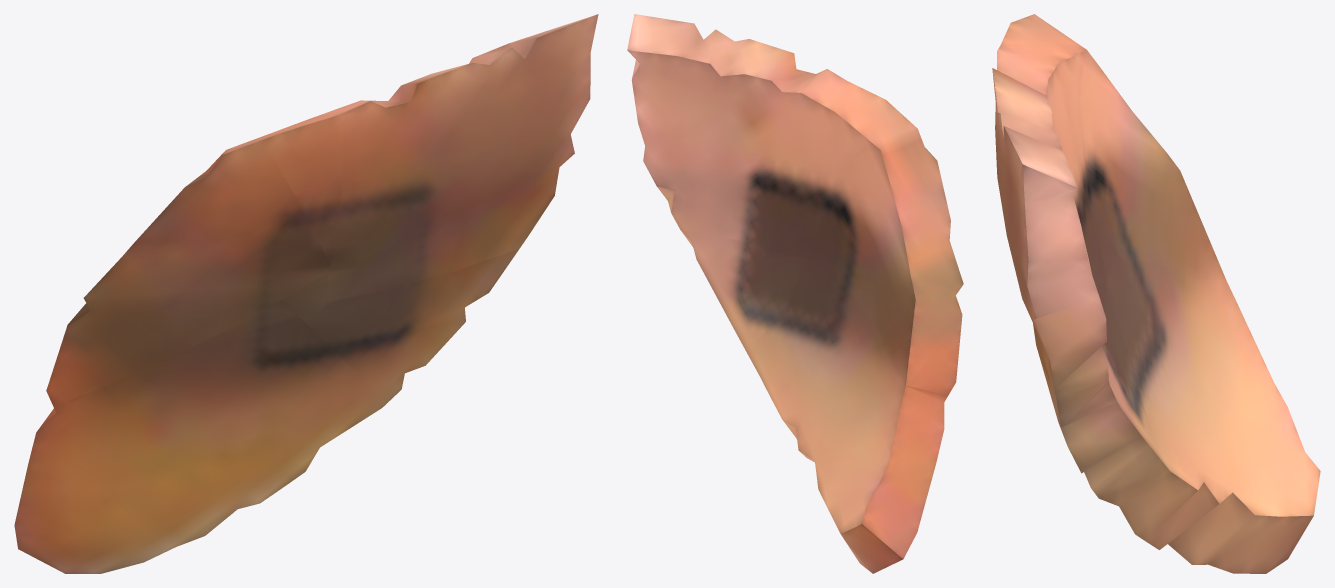
The model's file is Ceramic002.gltf.
3 renders of one model, left to right at view 1: azimuth 30°, elevation 25°; view 2: azimuth 150°, elevation 25°; view 3: azimuth 270°, elevation 25°, orthographic. The views are drawn at different scales.
Visible parts, largest first — view 1: Ceramic002_003, Ceramic002_001, Ceramic002_002, Ceramic002_004, Ceramic002; view 2: Ceramic002_001, Ceramic002_003, Ceramic002_002, Ceramic002_004, Ceramic002; view 3: Ceramic002_003, Ceramic002_001, Ceramic002_002, Ceramic002_004, Ceramic002.
Boxes of the visible parts, left/top/right/bottom form: Ceramic002_003: left=14, top=300, right=386, bottom=573; Ceramic002_001: left=320, top=14, right=598, bottom=302; Ceramic002_002: left=46, top=140, right=329, bottom=405; Ceramic002_004: left=282, top=249, right=518, bottom=402; Ceramic002: left=250, top=113, right=342, bottom=264; Ceramic002_001: left=627, top=14, right=846, bottom=261; Ceramic002_003: left=745, top=268, right=947, bottom=573; Ceramic002_002: left=814, top=110, right=963, bottom=395; Ceramic002_004: left=680, top=230, right=835, bottom=349; Ceramic002: left=815, top=80, right=896, bottom=224; Ceramic002_003: left=1097, top=256, right=1320, bottom=573; Ceramic002_001: left=992, top=45, right=1109, bottom=397; Ceramic002_002: left=1019, top=14, right=1225, bottom=278; Ceramic002_004: left=1040, top=252, right=1157, bottom=495; Ceramic002: left=1001, top=20, right=1094, bottom=229.
Bounding box in the file's own units: 0.0923 × 0.0982 × 0.0459.
Materials: 1 (1 with a texture image).
